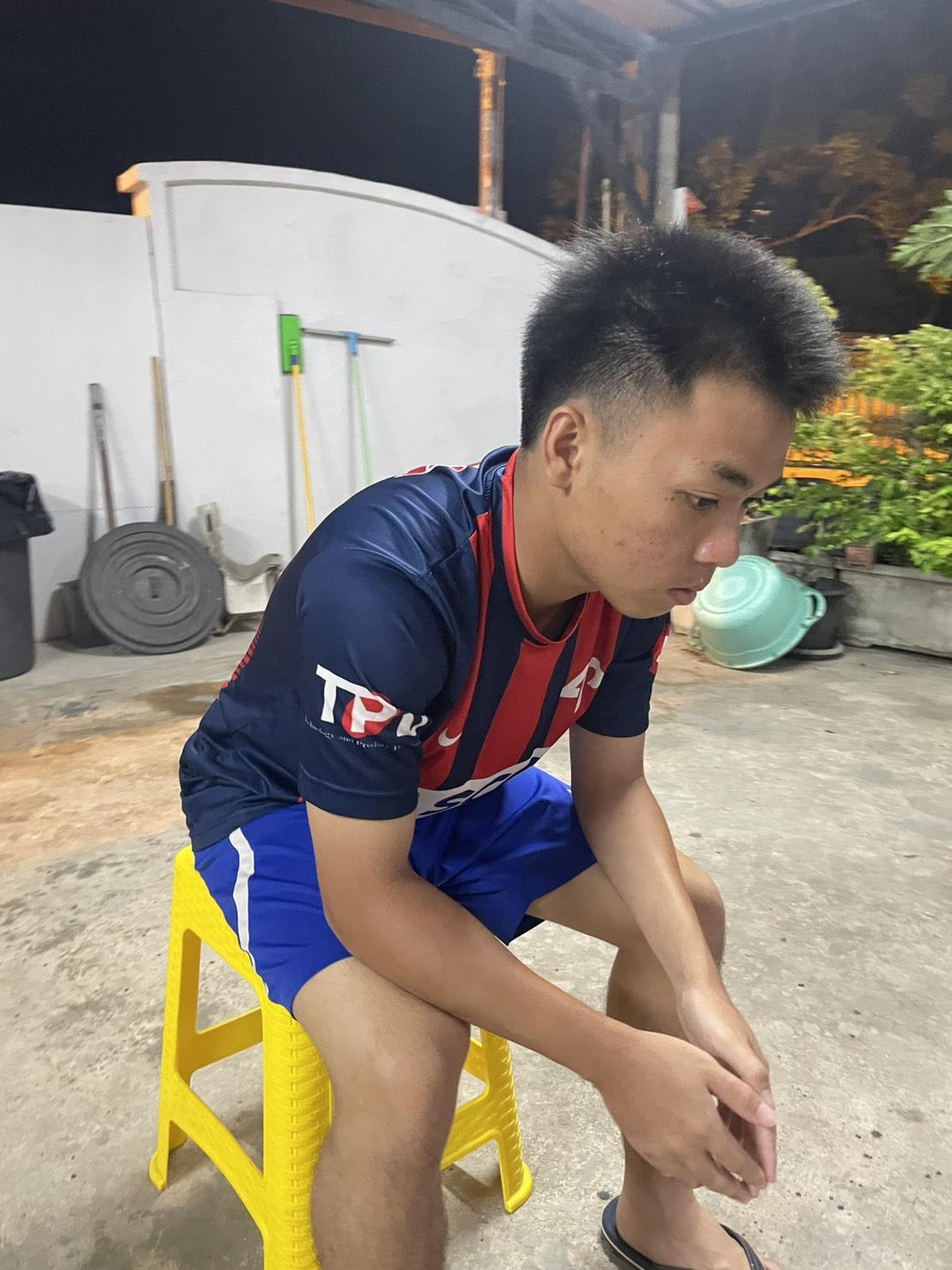BadPosture: (180, 229, 840, 852)
